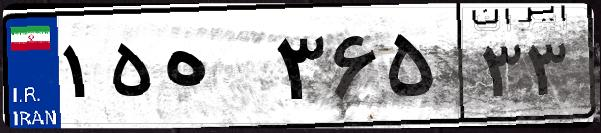1: (57, 26, 110, 100)
3: (270, 28, 330, 110), (475, 38, 525, 113), (525, 38, 570, 115)
5: (385, 28, 445, 110), (110, 28, 158, 98)
6: (330, 28, 385, 110)
ه: (158, 20, 270, 120)
